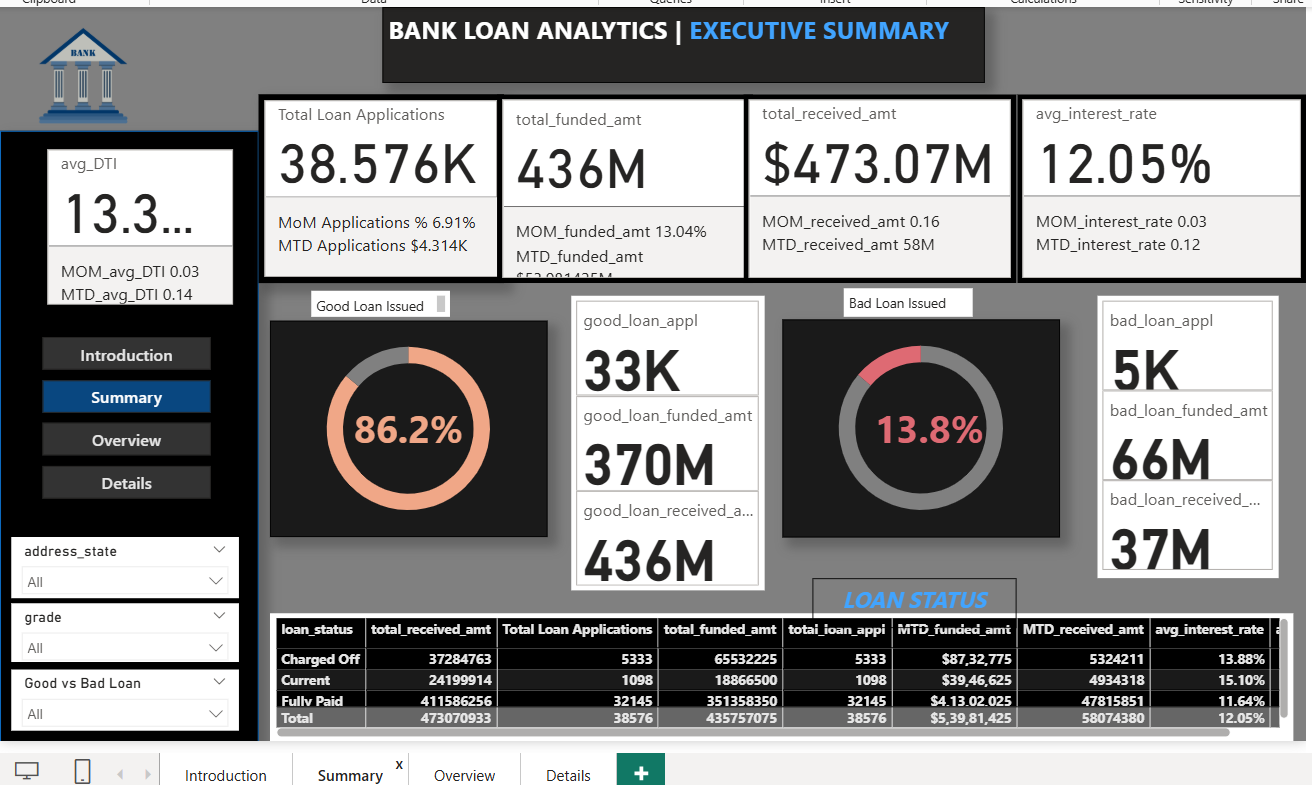

The page's visual inventory and layout, read from the dashboard file:
{"tool":"powerbi","page":{"name":"Summary","canvas":[1280,720],"ordinal":1},"visuals":[{"type":"textbox","box":[374.4,0,590.5,74.6],"z":0},{"type":"shape","box":[0,121.3,253.6,599.2],"z":1},{"type":"cardVisual","fields":{"Data":["table_measures.Total Loan Applications"]},"box":[253.8,85.8,240.4,185.2],"z":2},{"type":"cardVisual","fields":{"Data":["table_measures.total_funded_amt"]},"box":[488.1,85.8,250.2,185.2],"z":3},{"type":"cardVisual","fields":{"Data":["table_measures.total_received_amt"]},"box":[729.6,85.8,267.3,185.2],"z":4},{"type":"cardVisual","fields":{"Data":["table_measures.avg_interest_rate"]},"box":[997,85.8,283.3,185.2],"z":5},{"type":"cardVisual","fields":{"Data":["table_measures.avg_DTI"]},"box":[41.7,134.8,192.4,163],"z":6},{"type":"image","box":[0,0,163,134.8],"z":7},{"type":"donutChart","fields":{"Category":["financial_loan.Good vs Bad Loan"],"Y":["table_measures.total_loan_appl"]},"box":[264.7,307.6,272,212],"z":8},{"type":"cardVisual","fields":{"Data":["table_measures.good_loan_appl","table_measures.good_loan_funded_amt","table_measures.good_loan_received_amt"]},"box":[560,283.1,189.9,289.2],"z":9},{"type":"card","fields":{"Values":["table_measures.good_loan_per"]},"box":[325.9,378.6,149.5,68.6],"z":10},{"type":"textbox","box":[305.1,278.2,136,25.7],"z":11},{"type":"donutChart","fields":{"Category":["financial_loan.Good vs Bad Loan"],"Y":["table_measures.total_loan_appl"]},"box":[767.1,306.3,272,213.2],"z":12},{"type":"textbox","box":[827.1,275.7,126.2,28.2],"z":13},{"type":"cardVisual","fields":{"Data":["table_measures.bad_loan_appl","table_measures.bad_loan_funded_amt","table_measures.bad_loan_received_amt"]},"box":[1075.9,283.1,177.7,276.9],"z":14},{"type":"card","fields":{"Values":["table_measures.bad_loan_per"]},"box":[827.1,378.6,167.9,68.6],"z":15},{"type":"tableEx","fields":{"Values":["financial_loan.loan_status","table_measures.total_received_amt","table_measures.Total Loan Applications","table_measures.total_funded_amt","table_measures.total_loan_appl","table_measures.MTD_funded_amt","table_measures.MTD_received_amt","table_measures.avg_interest_rate","table_measures.avg_DTI"]},"box":[264.7,594.3,1003.6,126.2],"z":16},{"type":"textbox","box":[796.5,560,199.7,49],"z":17},{"type":"slicer","fields":{"Values":["financial_loan.address_state"]},"box":[11,519.6,223,60],"z":18},{"type":"slicer","fields":{"Values":["financial_loan.Good vs Bad Loan"]},"box":[11,649.4,223,60],"z":19},{"type":"slicer","fields":{"Values":["financial_loan.grade"]},"box":[11,584.5,223,57.6],"z":20},{"type":"pageNavigator","box":[41.7,323.5,165.4,160.5],"z":21}]}

Visuals, with their boxes on the page's 1280x720 design canvas (x1, y1, x2, y2). These are canvas units, not pixel positions in the 1312x785 screenshot, which may show the page scaled, cropped or inside an application window:
textbox: bbox=[374, 0, 965, 75]
shape: bbox=[0, 121, 254, 720]
cardVisual - table_measures.Total Loan Applications: bbox=[254, 86, 494, 271]
cardVisual - table_measures.total_funded_amt: bbox=[488, 86, 738, 271]
cardVisual - table_measures.total_received_amt: bbox=[730, 86, 997, 271]
cardVisual - table_measures.avg_interest_rate: bbox=[997, 86, 1280, 271]
cardVisual - table_measures.avg_DTI: bbox=[42, 135, 234, 298]
image: bbox=[0, 0, 163, 135]
donutChart - financial_loan.Good vs Bad Loan x table_measures.total_loan_appl: bbox=[265, 308, 537, 520]
cardVisual - table_measures.good_loan_appl x table_measures.good_loan_funded_amt: bbox=[560, 283, 750, 572]
card - table_measures.good_loan_per: bbox=[326, 379, 475, 447]
textbox: bbox=[305, 278, 441, 304]
donutChart - financial_loan.Good vs Bad Loan x table_measures.total_loan_appl: bbox=[767, 306, 1039, 520]
textbox: bbox=[827, 276, 953, 304]
cardVisual - table_measures.bad_loan_appl x table_measures.bad_loan_funded_amt: bbox=[1076, 283, 1254, 560]
card - table_measures.bad_loan_per: bbox=[827, 379, 995, 447]
tableEx - financial_loan.loan_status x table_measures.total_received_amt: bbox=[265, 594, 1268, 720]
textbox: bbox=[796, 560, 996, 609]
slicer - financial_loan.address_state: bbox=[11, 520, 234, 580]
slicer - financial_loan.Good vs Bad Loan: bbox=[11, 649, 234, 709]
slicer - financial_loan.grade: bbox=[11, 584, 234, 642]
pageNavigator: bbox=[42, 324, 207, 484]
